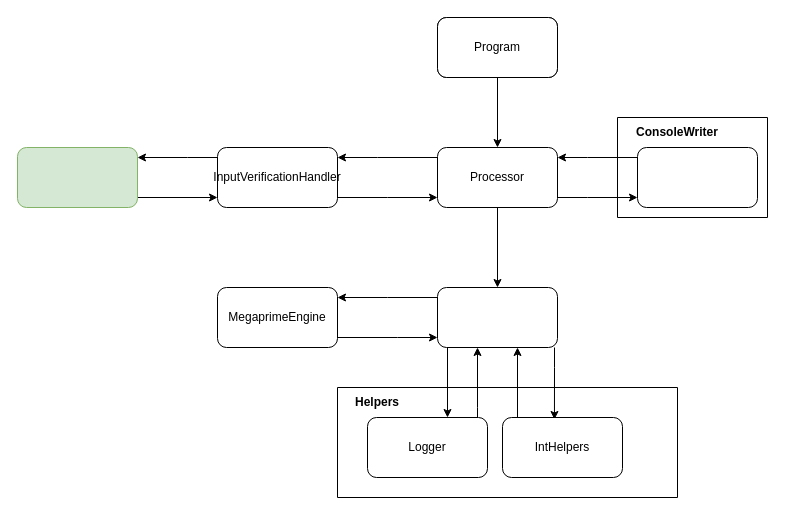
This 785x515 diagram has some shape labels left out. The shapes that lost their labels are listed below. From the top down, each one's centre as x and y in pixels, then its label:
At point (77, 177): "User".
At point (697, 177): "Write".
At point (497, 317): "MegaprimesEngine".
